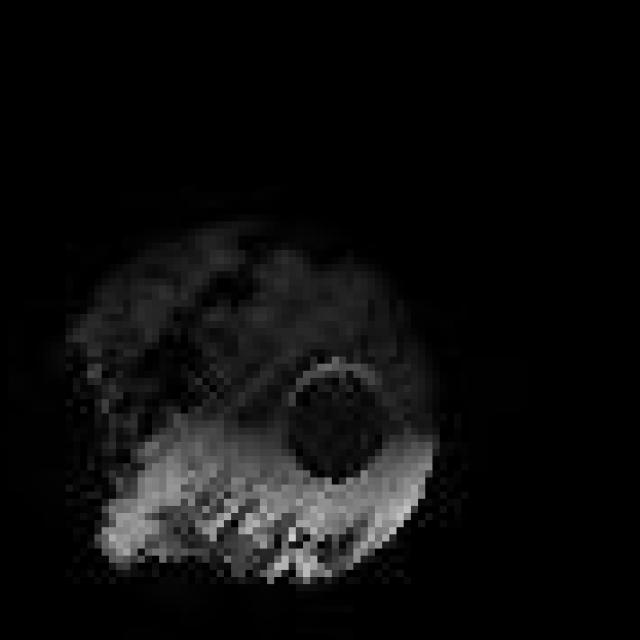Death Star: (58, 220, 460, 604)
